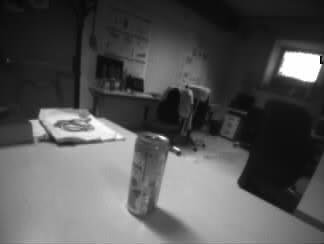Tin can: (127, 132, 167, 215)
